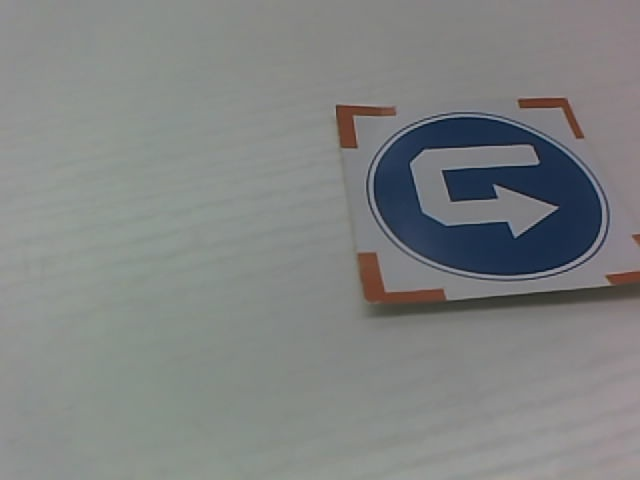turn_around: (334, 97, 640, 313)
